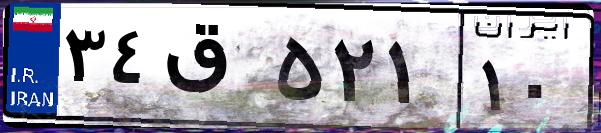0: (525, 38, 570, 115)
1: (385, 28, 445, 110), (475, 38, 525, 113)
2: (330, 28, 385, 110)
3: (57, 26, 110, 100)
4: (110, 28, 158, 98)
5: (270, 28, 330, 110)
ق: (158, 20, 270, 120)
